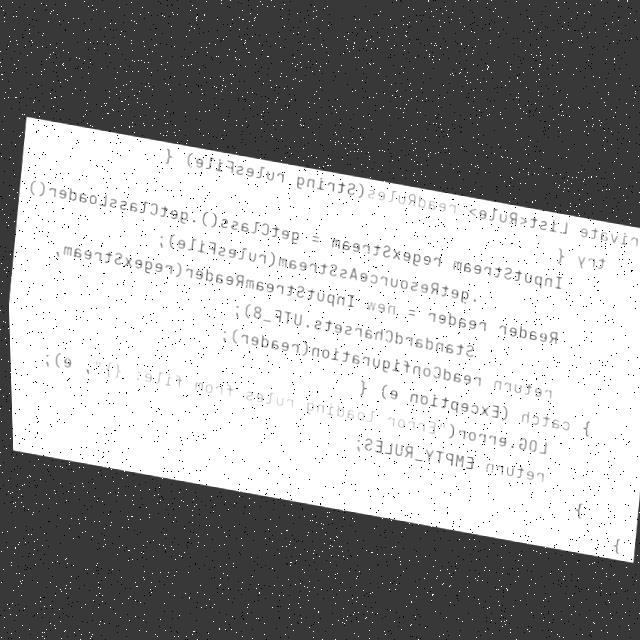code_screen: (9, 117, 640, 560)
